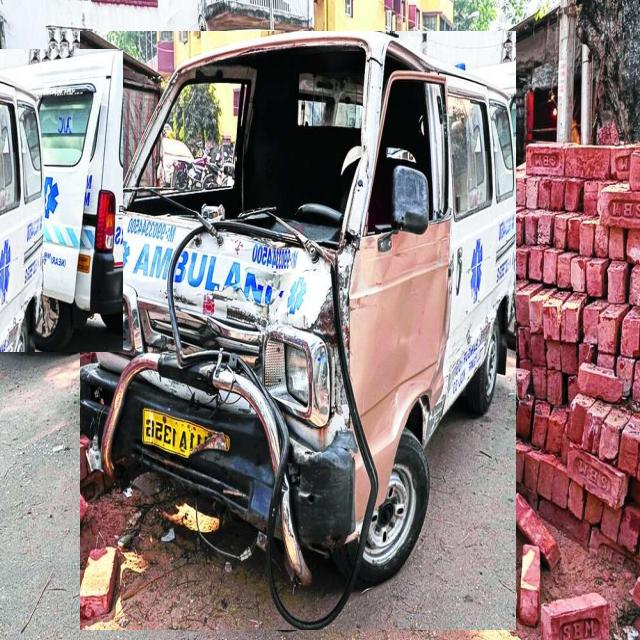accident: (80, 32, 516, 630)
emergency: (0, 49, 123, 352)
